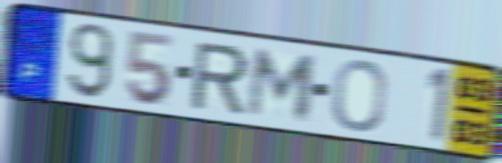1: (424, 67, 452, 147)
5: (125, 26, 176, 108)
9: (63, 21, 117, 102)
M: (243, 46, 321, 124)
O: (329, 57, 390, 134)
R: (188, 40, 252, 116)
